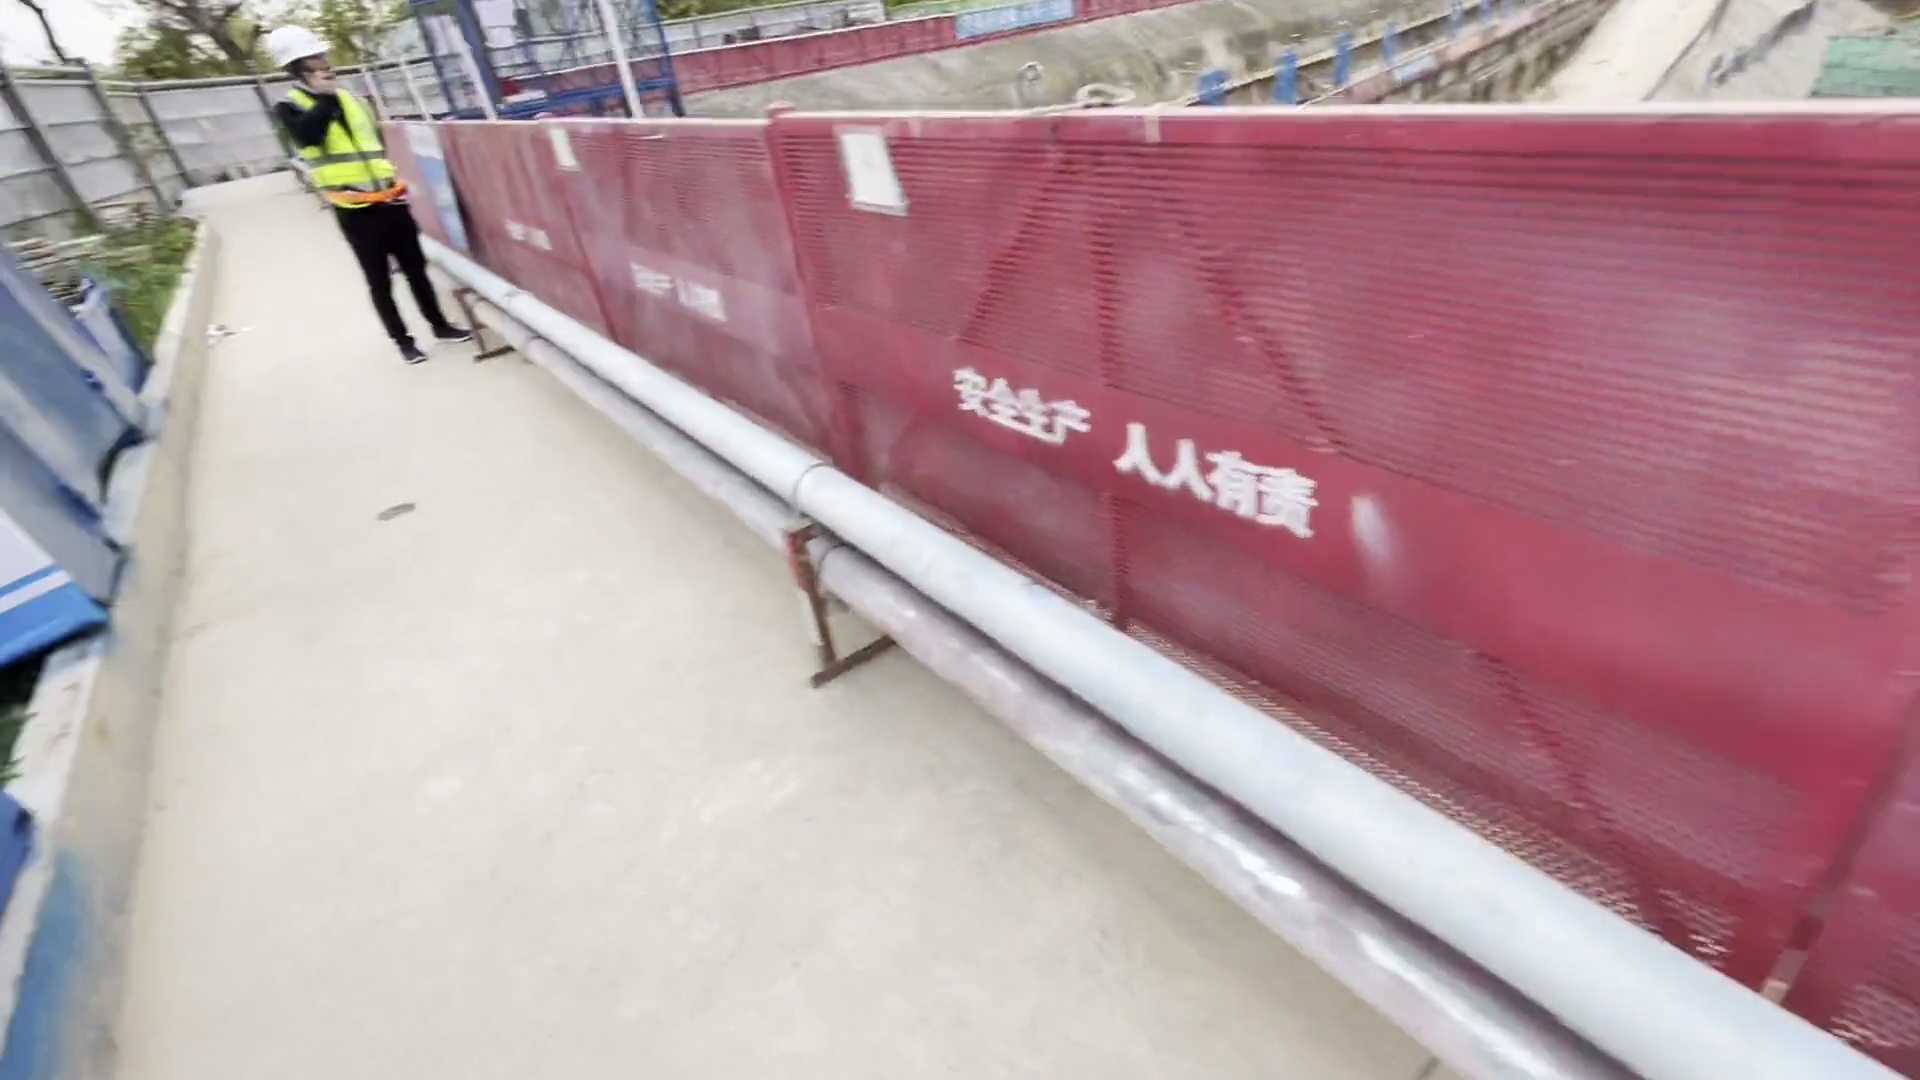helmet: (257, 22, 352, 77)
person: (256, 21, 479, 384)
vest: (274, 91, 415, 227)
